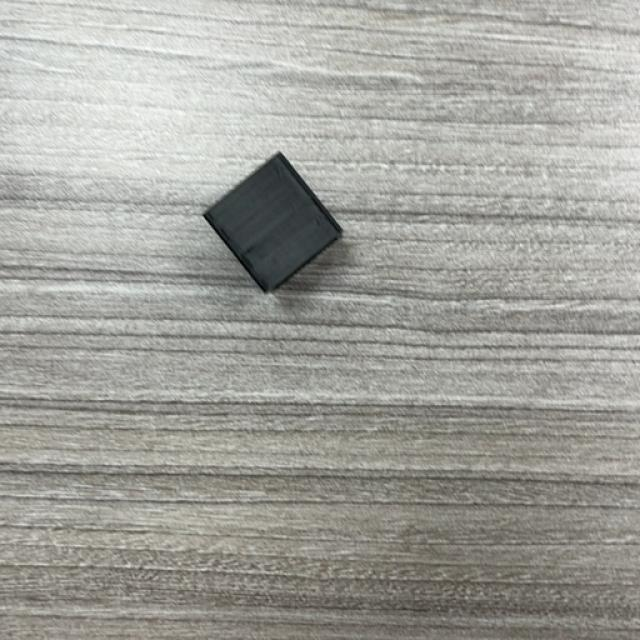Negro: (202, 154, 345, 294)
